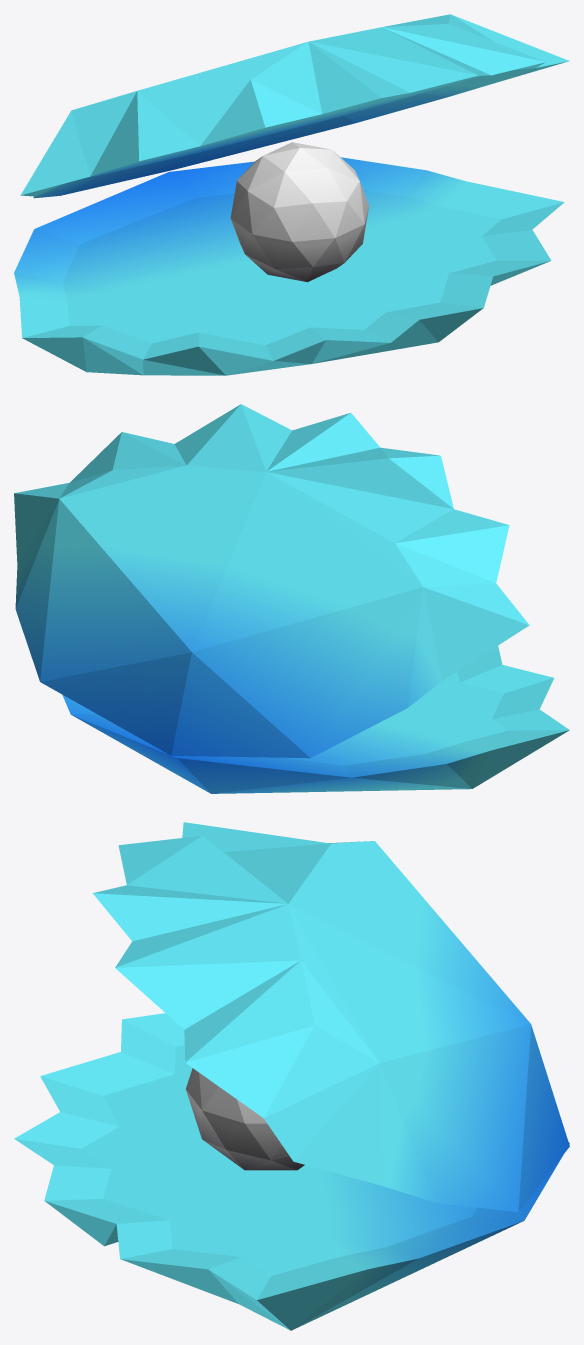
The model's file is SM_Shell_2.fbx.
3 views of the same model, one above another, from view 1: azimuth 30°, elevation 25°; view 2: azimuth 150°, elevation 25°; view 3: azimuth 270°, elevation 25° (orthographic). The views are drawn at different scales.
Visible parts, largest first — view 1: Shell_2; view 2: Shell_2; view 3: Shell_2.
Part boxes in pixels (<box>): Shell_2: <box>14,14,569,375</box>; Shell_2: <box>14,404,569,793</box>; Shell_2: <box>14,822,569,1330</box>.
Bounding box in the file's own units: 35.27 × 17.4 × 24.87.
